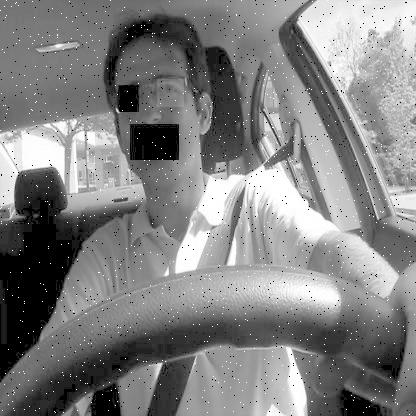seatbelt: (95, 1, 314, 270)
